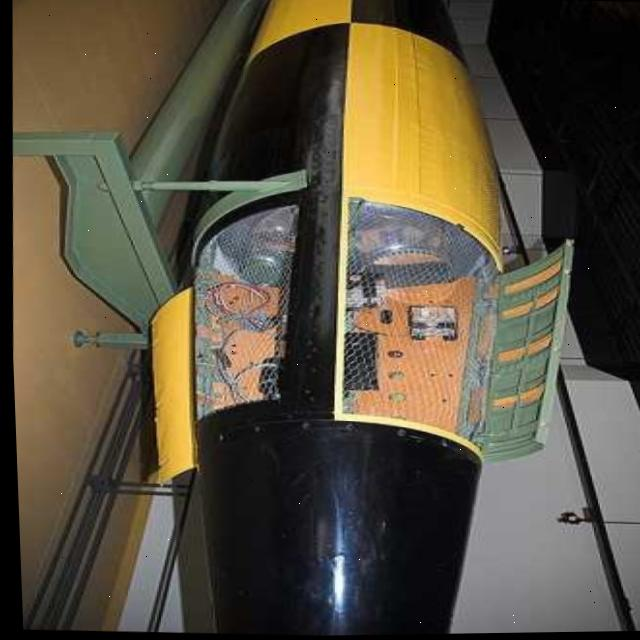missile: (136, 0, 591, 638)
